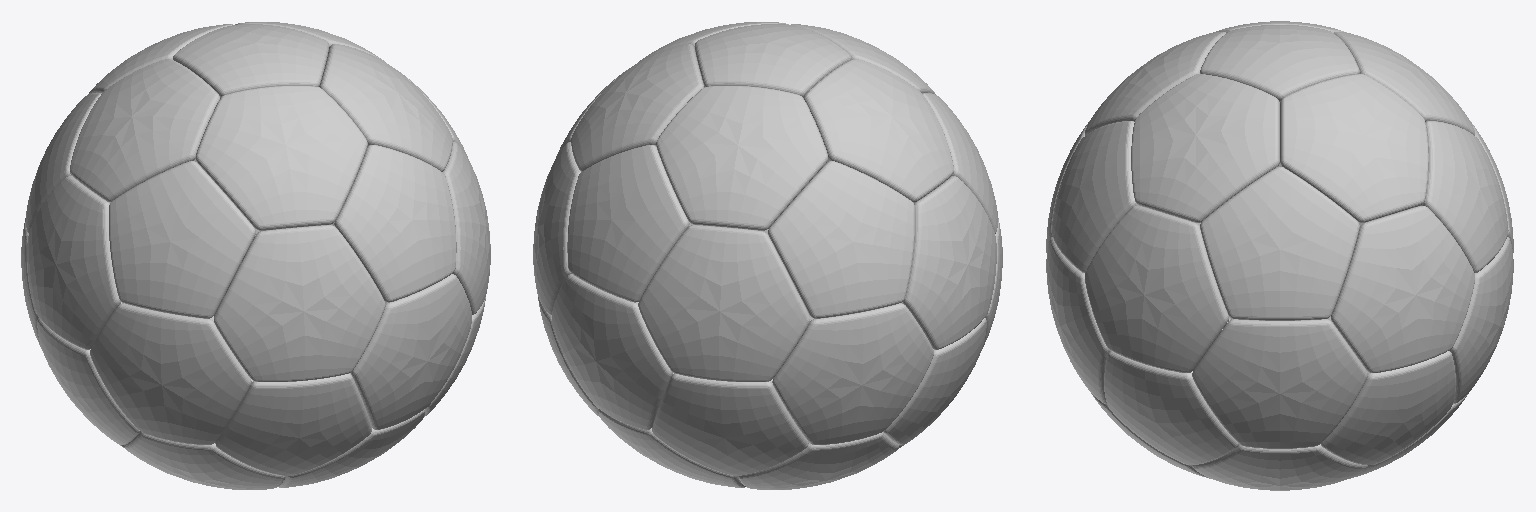
File: Balon.obj
3 renders of one model, left to right at view 1: azimuth 30°, elevation 25°; view 2: azimuth 150°, elevation 25°; view 3: azimuth 270°, elevation 25°, orthographic.
Parts seen in each view (by area): view 1: Balon; view 2: Balon; view 3: Balon.
Boxes of the visible parts, box(x1,y1,x2,y2) form: Balon: box(21, 22, 490, 489); Balon: box(533, 22, 1002, 489); Balon: box(1046, 21, 1513, 490).
Size of the model in its own units: 3.3 by 3.31 by 3.28.